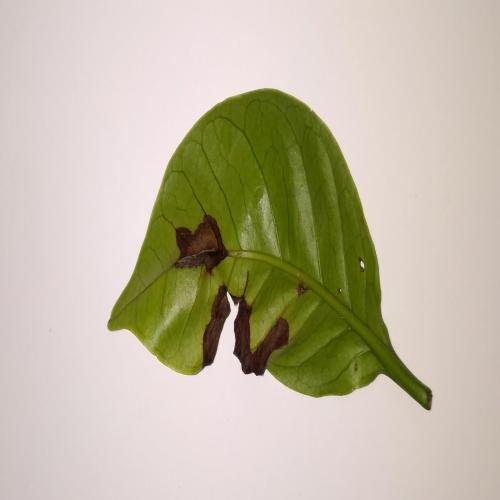miner: (173, 213, 228, 275)
